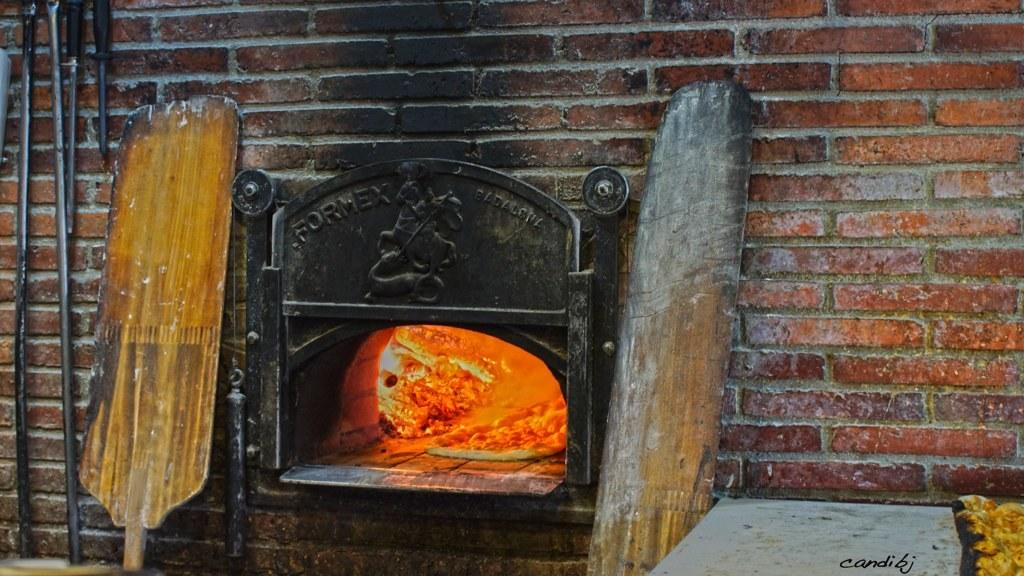Fire: (359, 326, 573, 471)
